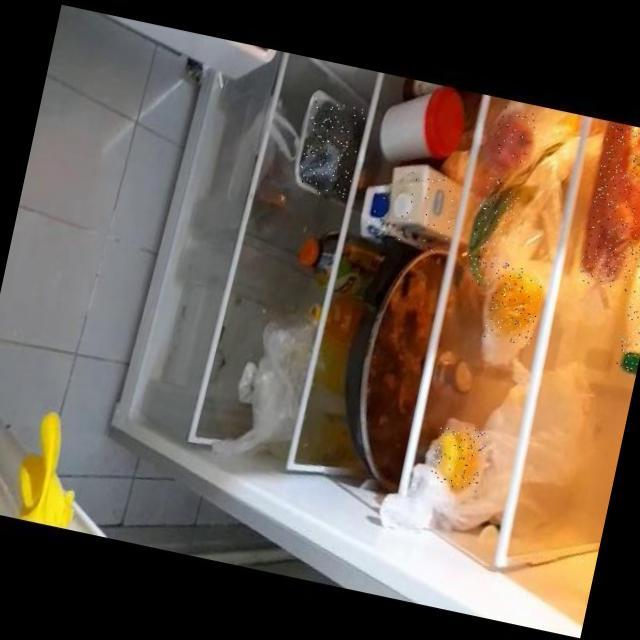Zanahoria: (574, 124, 640, 295)
